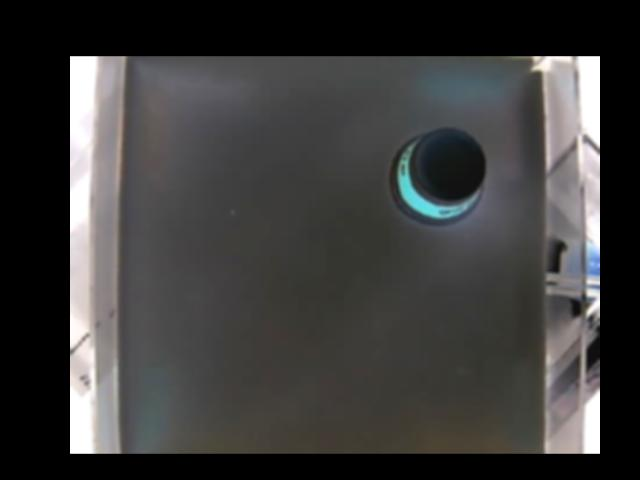Cup: (387, 125, 489, 230)
